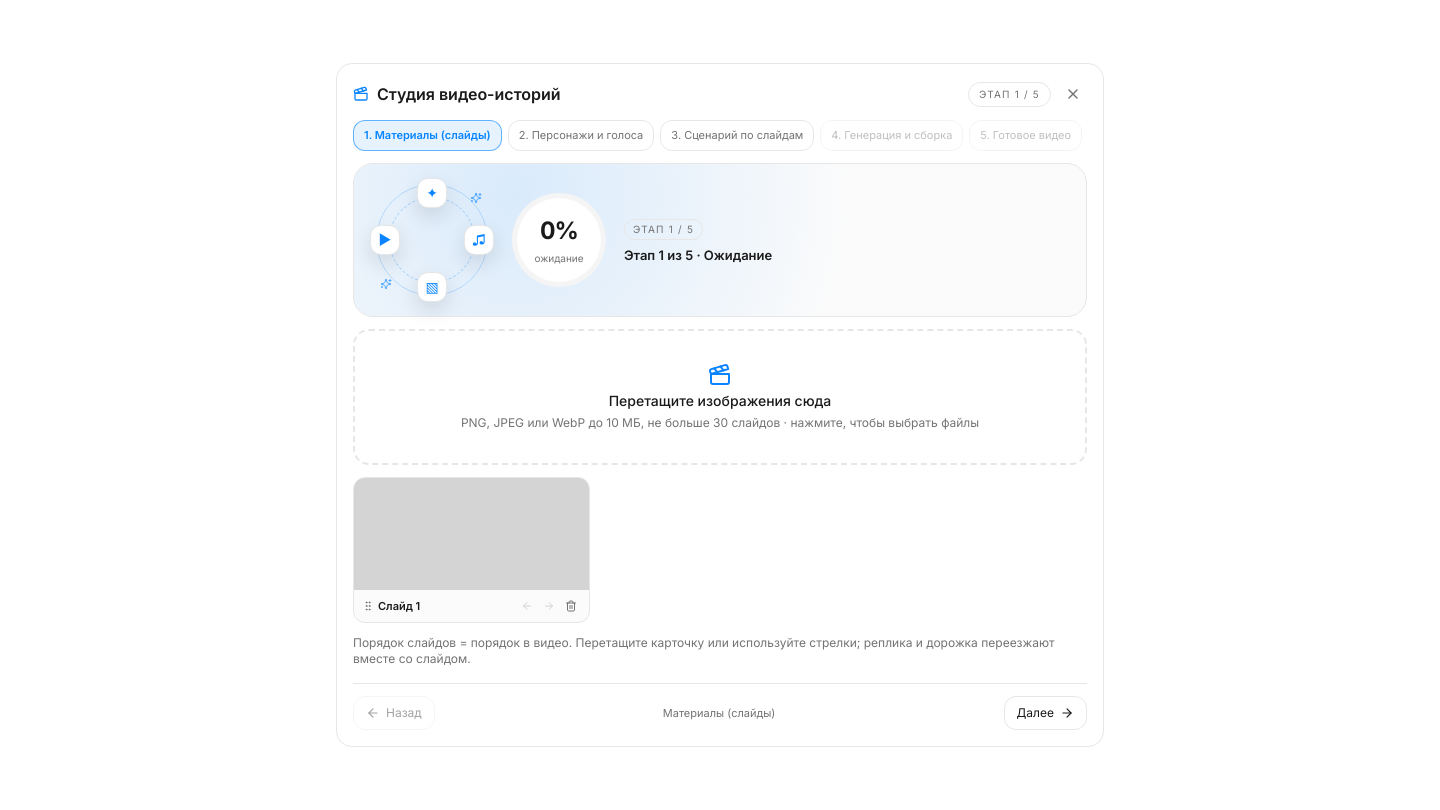
студия: этап 2 — персонажи и голоса › последнего говорящего убрать нельзя
The width and height of the screenshot is (1440, 810).
Earlier steps of the test are not shown.
Click the button with test id "story-stage-3": {"x": 737, "y": 136} [660,120,814,151]
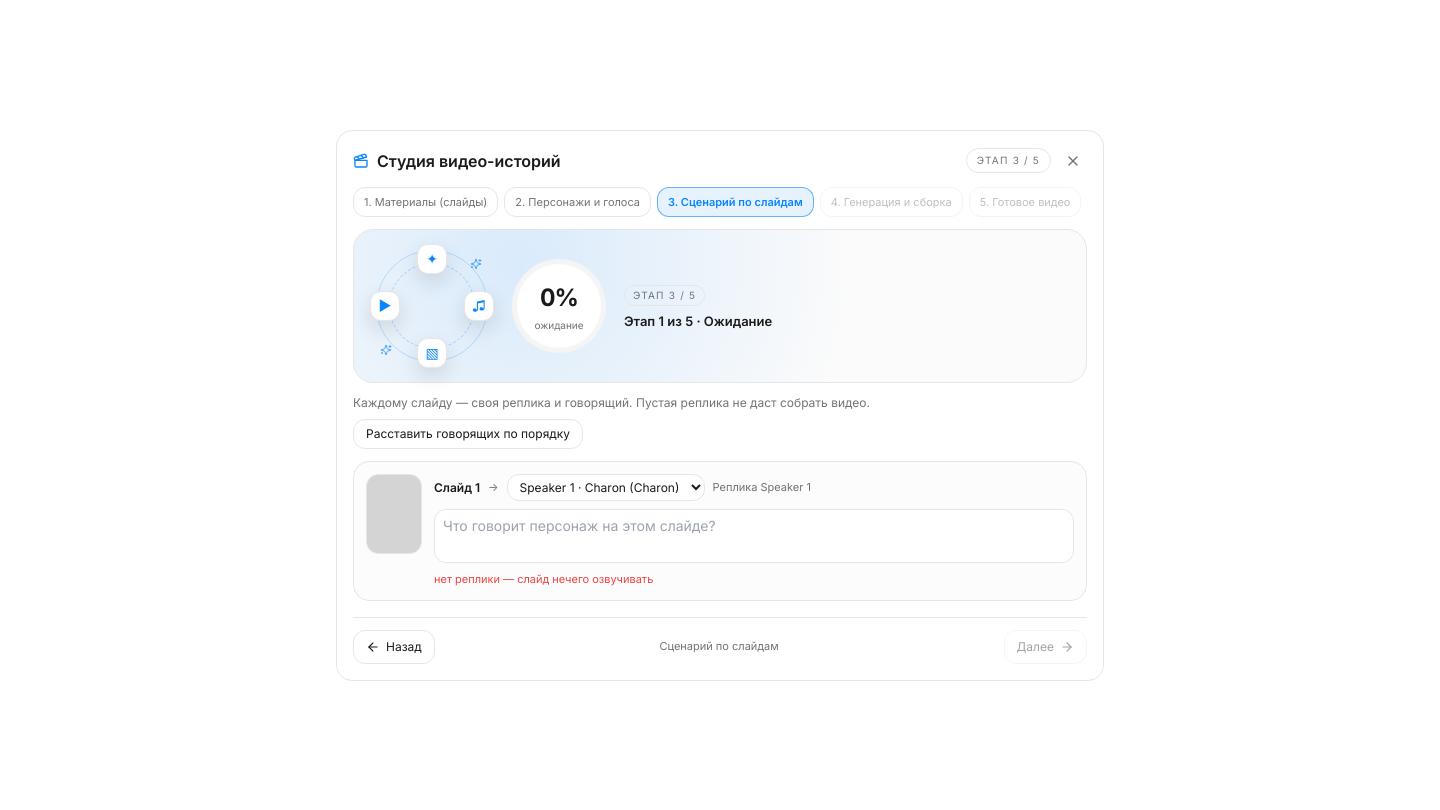
Expected: the text box with test id "story-script-1" is shown
In the text box with test id "story-script-1": {"x": 754, "y": 536} [434,509,1074,563], type "Реплика слайда 1"
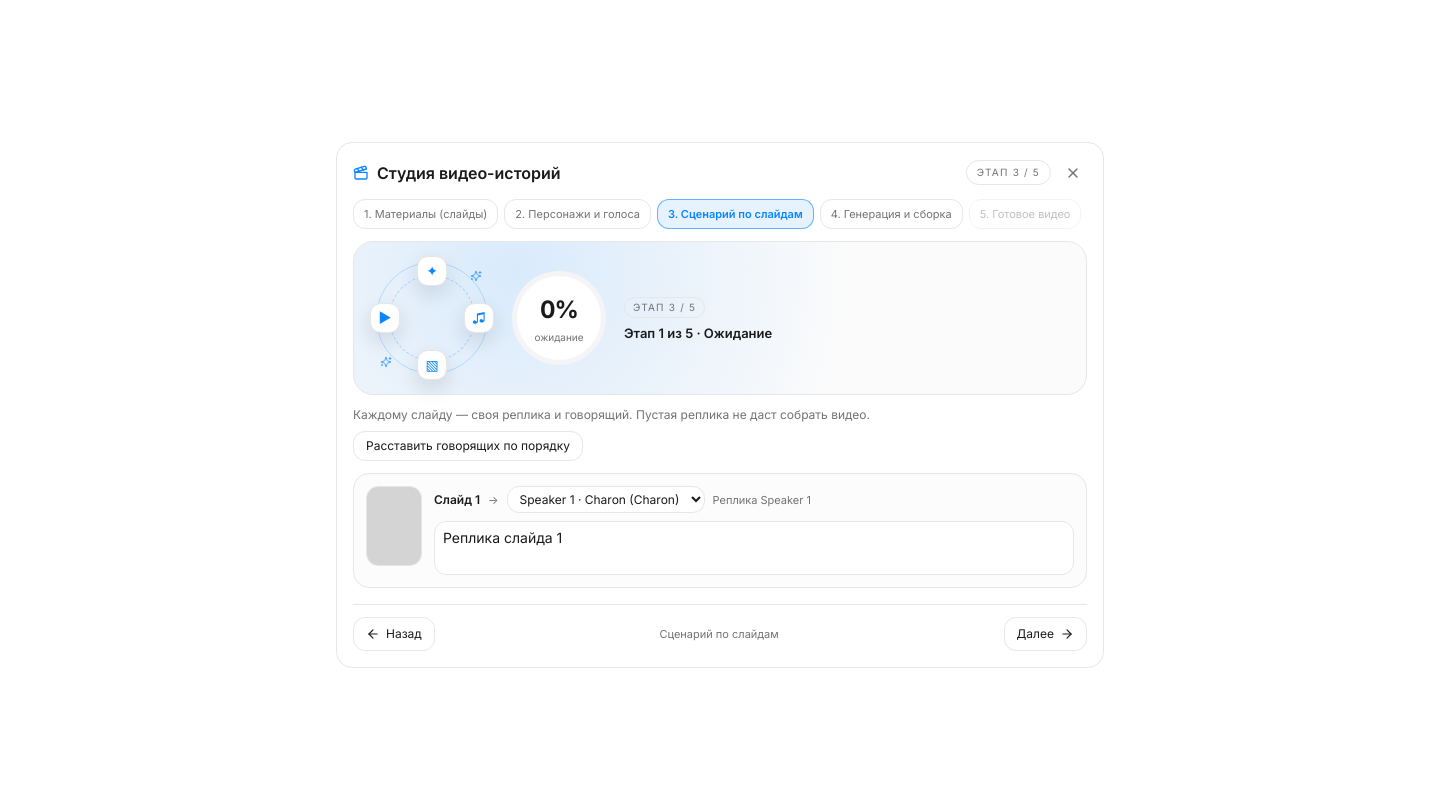
Click the button with test id "story-stage-2": {"x": 578, "y": 214} [504,199,651,229]
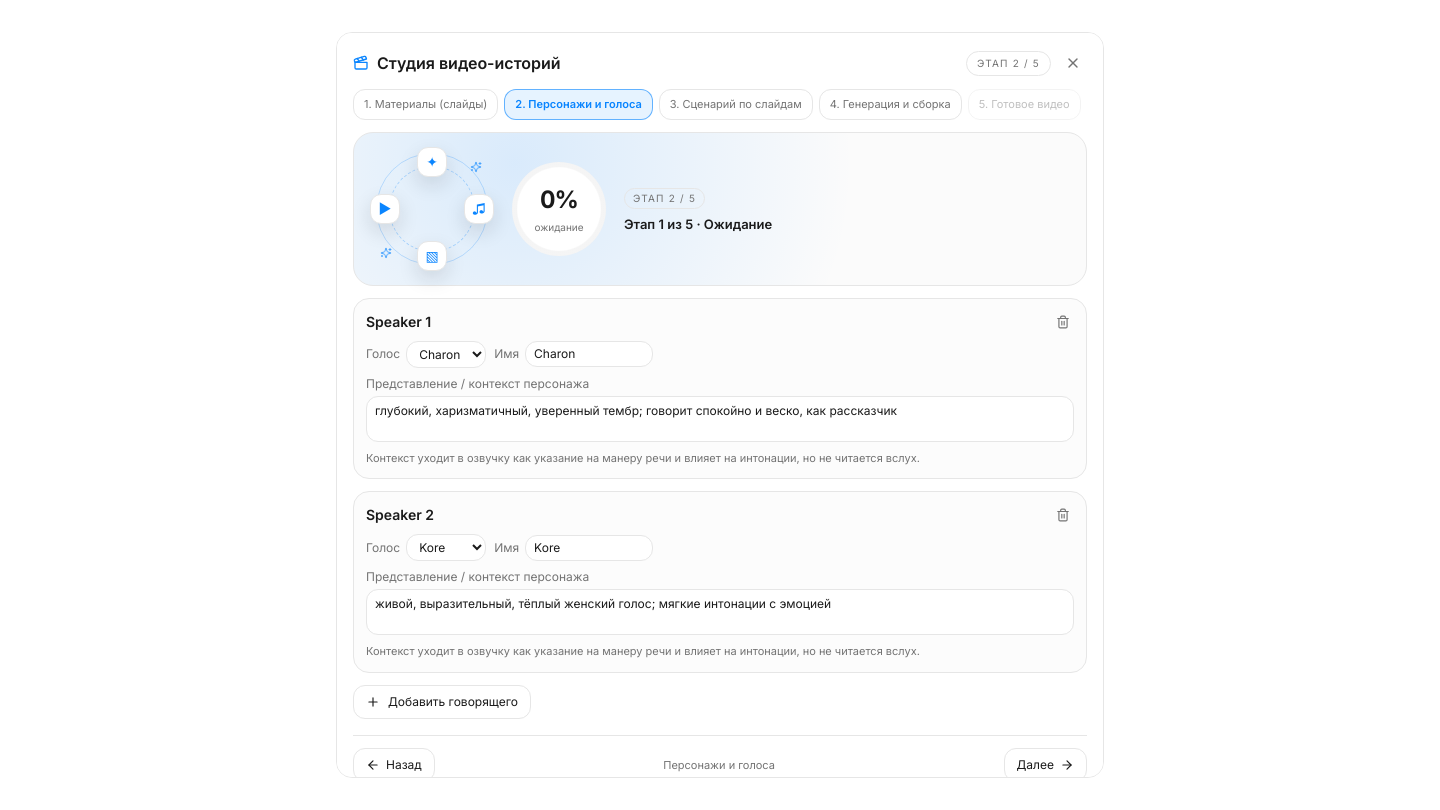
Expected: the element with test id "story-character-1" is shown, [353,298,1087,479]
Click the button with test id "story-remove-character-2": {"x": 1063, "y": 515} [1052,504,1074,526]
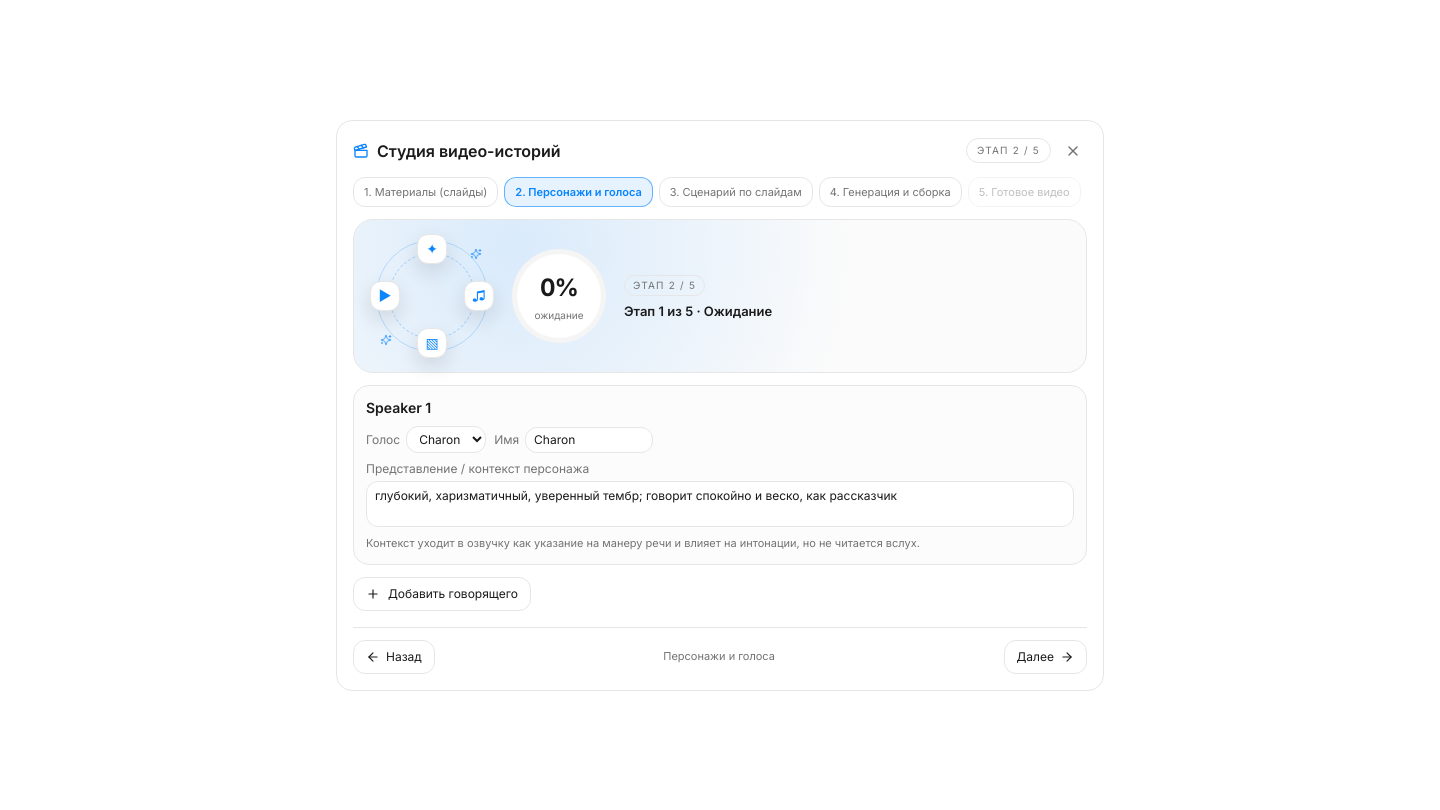
Expected: the element with test id "story-character-1" is shown, [353,385,1087,564]
Expected: the button with test id "story-remove-character-1" is gone
